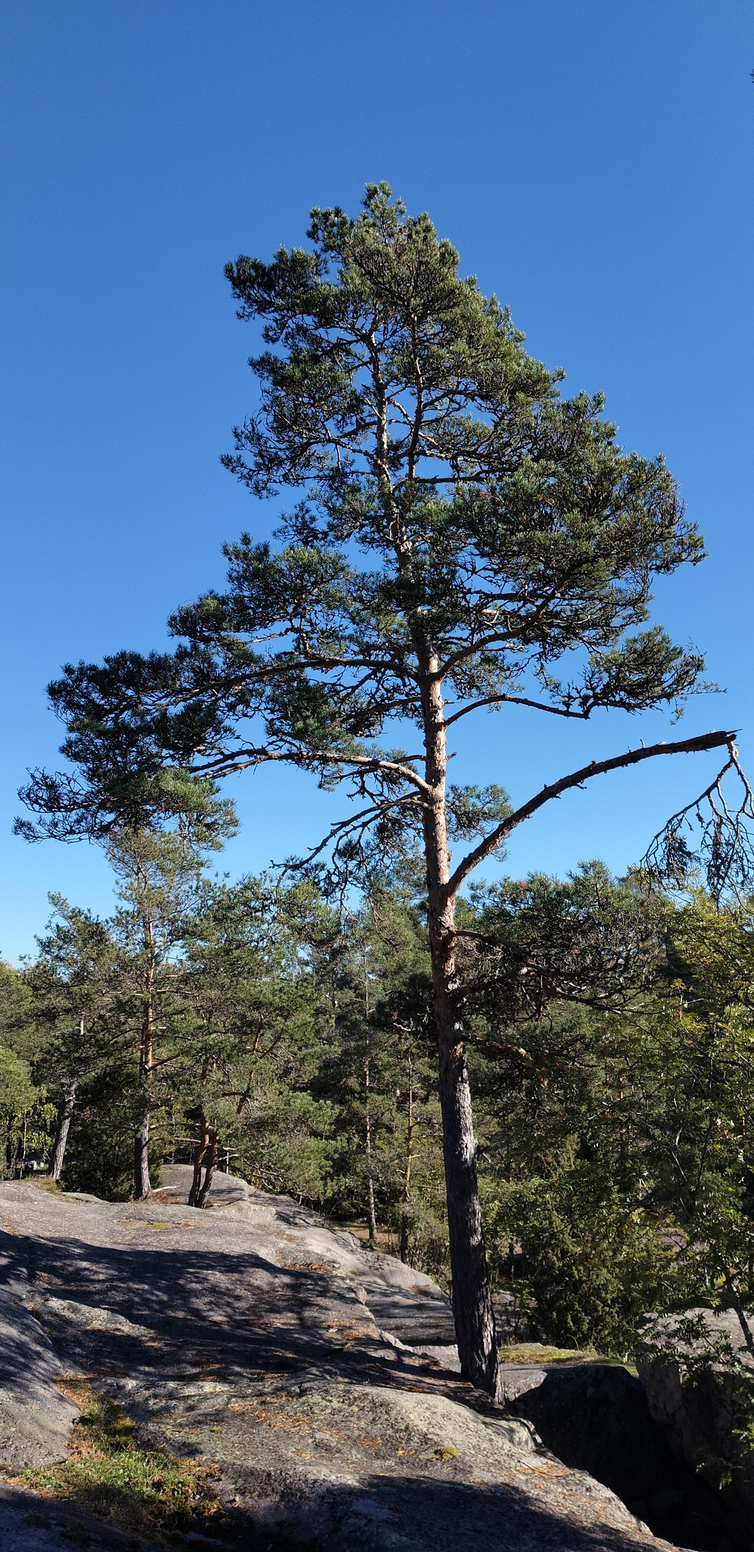Pine: (199, 181, 751, 1397)
